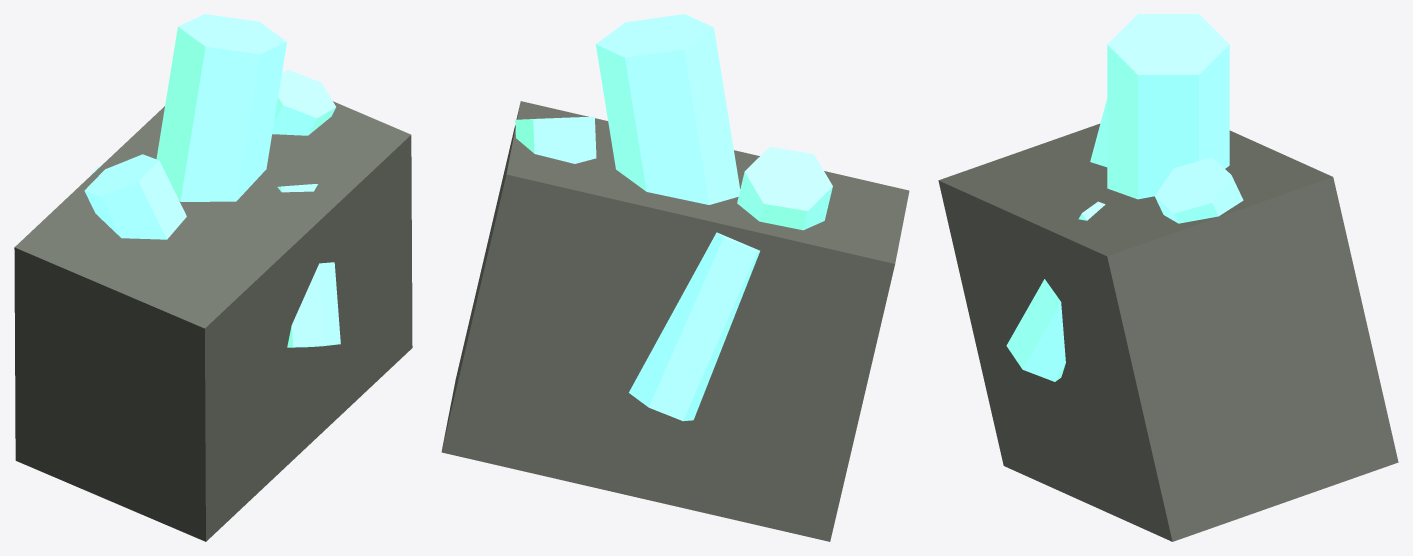
Rendered from rock_sylvaran_emerald_crystal.glb.
3 renders of one model, left to right at view 1: azimuth 30°, elevation 25°; view 2: azimuth 150°, elevation 25°; view 3: azimuth 270°, elevation 25°, orthographic. The views are drawn at different scales.
Parts seen in each view (by area): view 1: Mountain_Crag_Ridge, Emerald_Prism_1, Emerald_Prism_3, Emerald_Prism_4, Emerald_Prism_2; view 2: Mountain_Crag_Ridge, Emerald_Prism_1, Emerald_Prism_5, Emerald_Prism_3, Emerald_Prism_2; view 3: Mountain_Crag_Ridge, Emerald_Prism_1, Emerald_Prism_4, Emerald_Prism_2, Emerald_Prism_3.
Part boxes in pixels (x1,y1,x2,y2): Mountain_Crag_Ridge: [14, 101, 412, 541]; Emerald_Prism_1: [156, 14, 286, 201]; Emerald_Prism_3: [84, 154, 186, 239]; Emerald_Prism_4: [277, 184, 340, 347]; Emerald_Prism_2: [272, 69, 335, 135]; Mountain_Crag_Ridge: [441, 101, 909, 541]; Emerald_Prism_1: [595, 14, 740, 204]; Emerald_Prism_5: [629, 232, 759, 421]; Emerald_Prism_3: [737, 146, 832, 230]; Emerald_Prism_2: [515, 116, 596, 163]; Mountain_Crag_Ridge: [938, 123, 1398, 541]; Emerald_Prism_1: [1107, 14, 1229, 199]; Emerald_Prism_4: [1006, 201, 1105, 381]; Emerald_Prism_2: [1154, 157, 1243, 223]; Emerald_Prism_3: [1090, 99, 1107, 167].
Size of the model in its own units: 10.08 by 10.47 by 9.01.
